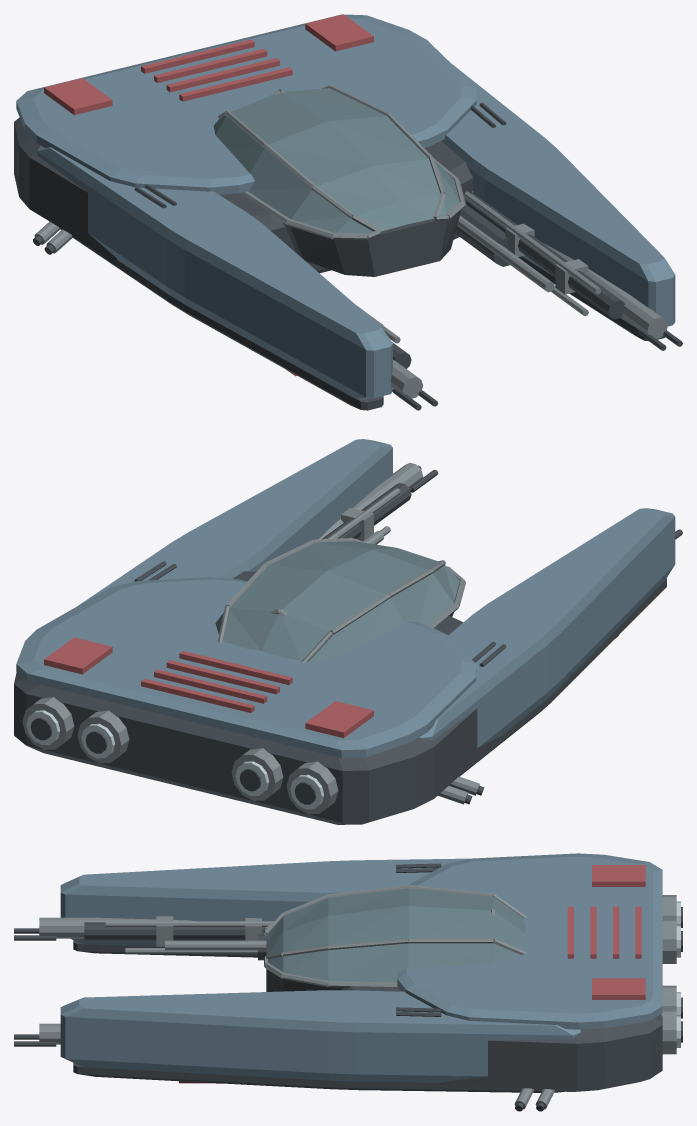
Rendered from x6_blue_off.glb.
The picture shows the model from 3 angles, top to bottom: view 1: azimuth 30°, elevation 25°; view 2: azimuth 150°, elevation 25°; view 3: azimuth 270°, elevation 25°; orthographic projection. The views are drawn at different scales.
Visible parts, largest first — view 1: material_1, material_4, material_0, material_2, material_3; view 2: material_1, material_0, material_4, material_2, material_3, material_5; view 3: material_1, material_0, material_4, material_2, material_3, material_5.
Part boxes in pixels (x1,y1,x2,y2): material_1: [16, 14, 675, 399]; material_4: [213, 88, 459, 233]; material_0: [14, 102, 682, 410]; material_2: [34, 85, 667, 398]; material_3: [44, 14, 373, 376]; material_1: [16, 439, 675, 758]; material_0: [14, 465, 682, 824]; material_4: [215, 541, 459, 660]; material_2: [22, 463, 479, 814]; material_3: [44, 635, 618, 738]; material_5: [26, 710, 324, 809]; material_1: [60, 853, 662, 1082]; material_0: [14, 863, 682, 1111]; material_4: [266, 888, 525, 982]; material_2: [39, 885, 676, 1109]; material_3: [179, 865, 645, 1083]; material_5: [676, 901, 680, 1047].
Bounding box in the file's own units: 3.18 × 0.8789 × 4.75.
